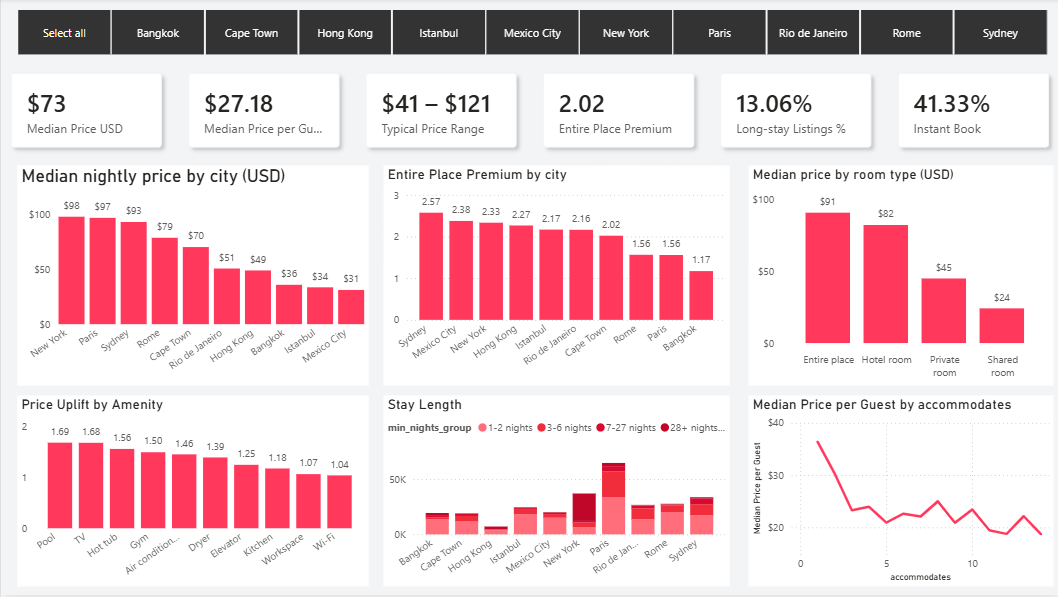

The page's visual inventory and layout, read from the dashboard file:
{"tool":"powerbi","page":{"name":"3. Pricing","canvas":[1280,720],"ordinal":2},"visuals":[{"type":"slicer","fields":{"Values":["dim_city.city"]},"box":[0,12.6,1280.3,57.9],"z":0},{"type":"cardVisual","fields":{"Data":["_Measures.Median Price USD","_Measures.Median Price per Guest","_Measures.Typical Price Range","_Measures.Entire Place Premium","_Measures.Long-stay Listings %","_Measures.Instant Book %"]},"box":[0,78,1280.3,114.6],"z":1000},{"type":"clusteredColumnChart","title":"Median nightly price by city (USD)","fields":{"Category":["dim_city.city"],"Y":["_Measures.Median Price USD"]},"box":[20.1,201.4,424.2,265.6],"z":2000},{"type":"clusteredColumnChart","fields":{"Category":["dim_city.city"],"Y":["_Measures.Entire Place Premium"]},"box":[461.5,202.1,417.7,265.4],"z":3000},{"type":"clusteredColumnChart","title":"Median price by room type (USD)","fields":{"Category":["dim_listing.room_type"],"Y":["_Measures.Median Price USD"]},"box":[901.8,202.1,368,265.4],"z":4000},{"type":"clusteredColumnChart","title":"Price Uplift by Amenity","fields":{"Category":["Amenities.Amenity"],"Y":["_Measures.Amenity Uplift"]},"box":[20.1,479.6,424.2,230.4],"z":5000},{"type":"lineChart","fields":{"Category":["dim_listing.accommodates"],"Y":["_Measures.Median Price per Guest"]},"box":[901.8,479.5,368,230.7],"z":6000},{"type":"columnChart","title":"Stay Length","fields":{"Category":["dim_city.city"],"Series":["dim_listing.min_nights_group"],"Y":["_Measures.Listings"]},"box":[461.5,479.5,417.7,230.7],"z":7000}]}

Visuals, with their boxes in screenshot pixels (x1, y1, x2, y2), scaled from the page's 1280x720 canvas onto the 1058x597 screenshot:
slicer - dim_city.city: box=[0, 10, 1057, 58]
cardVisual - _Measures.Median Price USD x _Measures.Median Price per Guest: box=[0, 65, 1057, 160]
"Median nightly price by city (USD)" clusteredColumnChart: box=[17, 167, 367, 387]
clusteredColumnChart - dim_city.city x _Measures.Entire Place Premium: box=[381, 168, 727, 388]
"Median price by room type (USD)" clusteredColumnChart: box=[745, 168, 1050, 388]
"Price Uplift by Amenity" clusteredColumnChart: box=[17, 398, 367, 589]
lineChart - dim_listing.accommodates x _Measures.Median Price per Guest: box=[745, 398, 1050, 589]
"Stay Length" columnChart: box=[381, 398, 727, 589]
